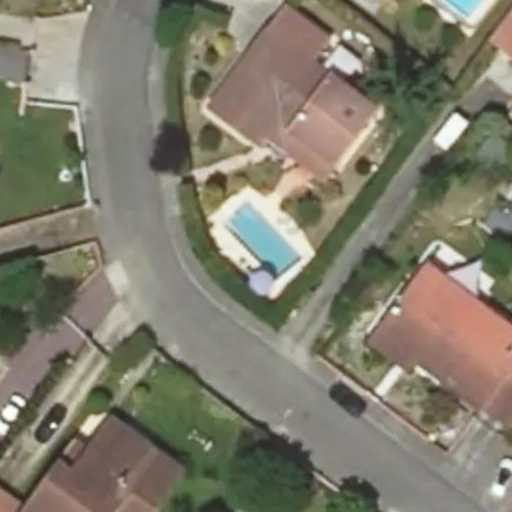pool: (225, 201, 301, 280)
